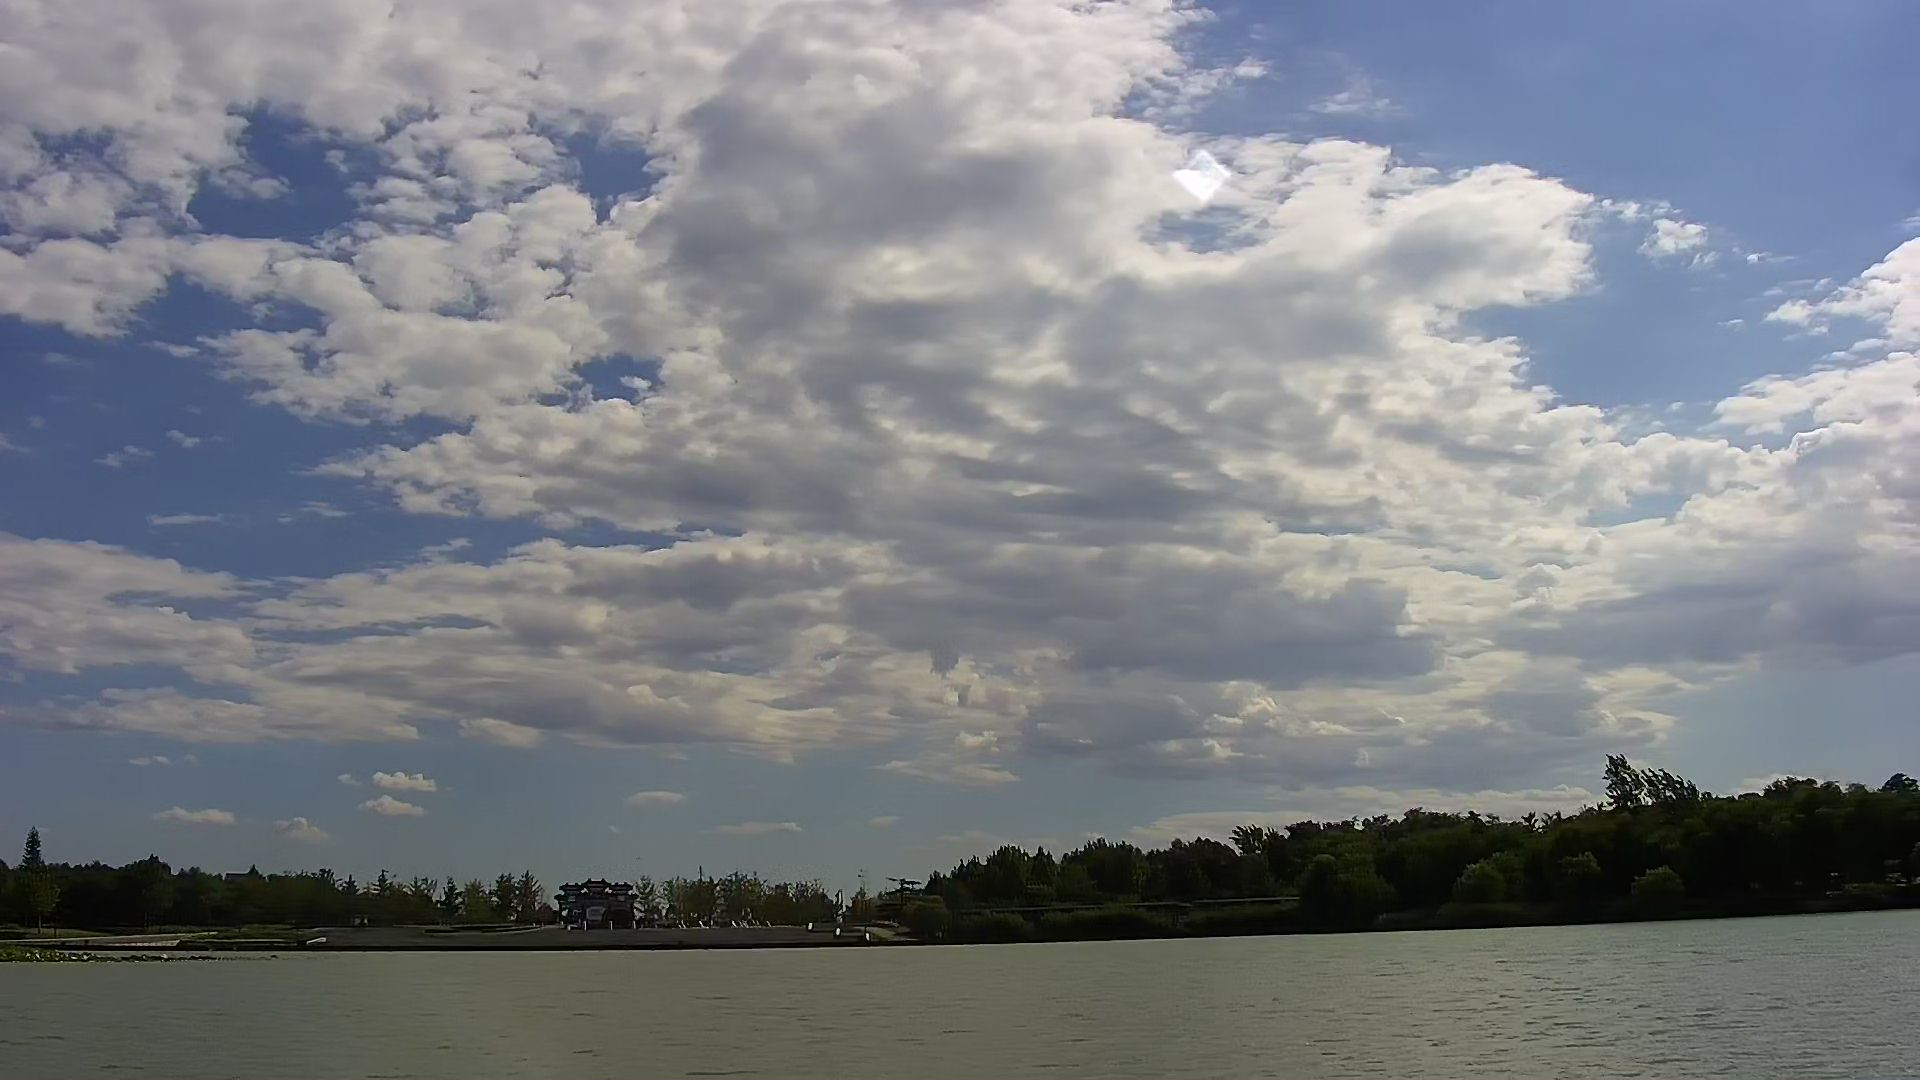harbor: (319, 911, 939, 953)
